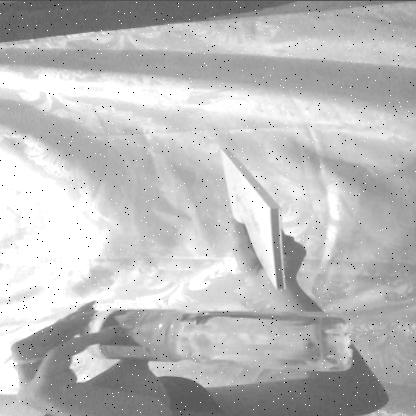Plastic Bottle: (2, 294, 383, 375)
